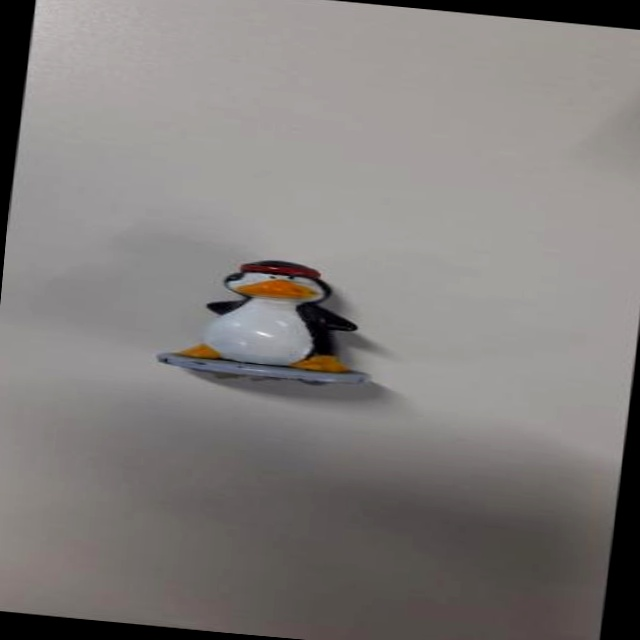Penguin: (130, 208, 414, 410)
